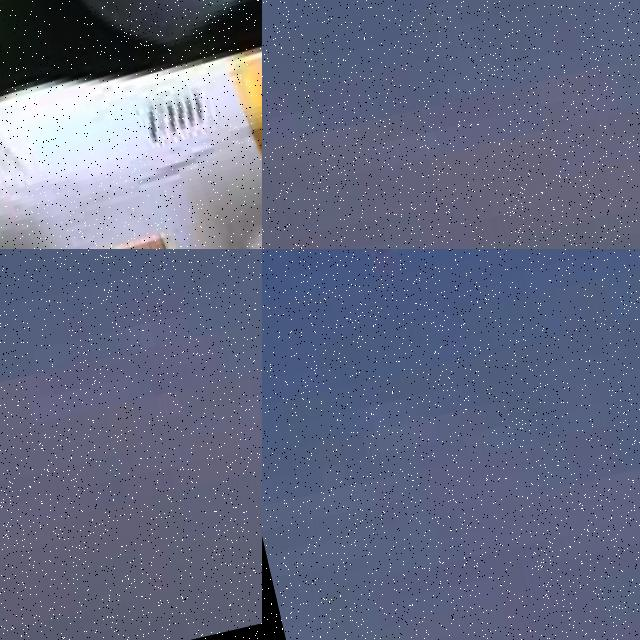drone: (0, 0, 262, 249)
